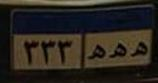3: (21, 38, 39, 65), (57, 38, 74, 64), (40, 39, 56, 65)
haa: (128, 38, 149, 60), (107, 41, 127, 63), (86, 43, 107, 62)
